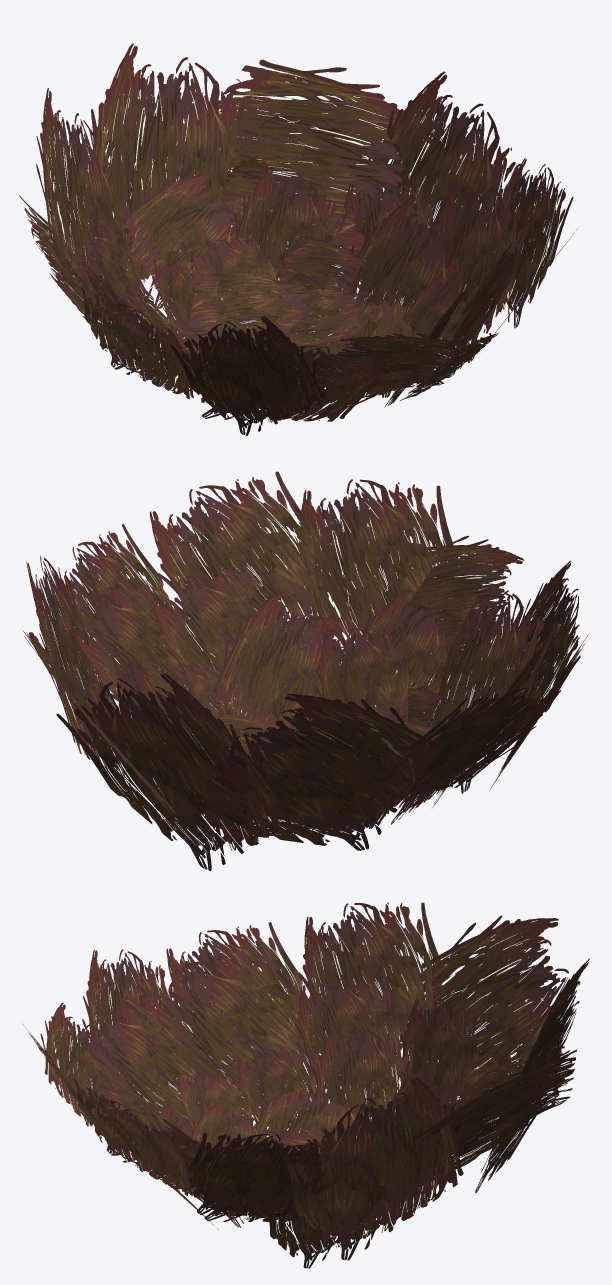
The model's file is Nest.fbx.
3 renders of one model, top to bottom at view 1: azimuth 30°, elevation 25°; view 2: azimuth 150°, elevation 25°; view 3: azimuth 270°, elevation 25°, orthographic. The views are drawn at different scales.
Visible parts, largest first — view 1: Nest; view 2: Nest; view 3: Nest.
Boxes of the visible parts, left/top/right/bottom form: Nest: left=19, top=43, right=577, bottom=435; Nest: left=22, top=471, right=588, bottom=871; Nest: left=23, top=902, right=589, bottom=1268.
Size of the model in its own units: 180 by 102 by 192.
